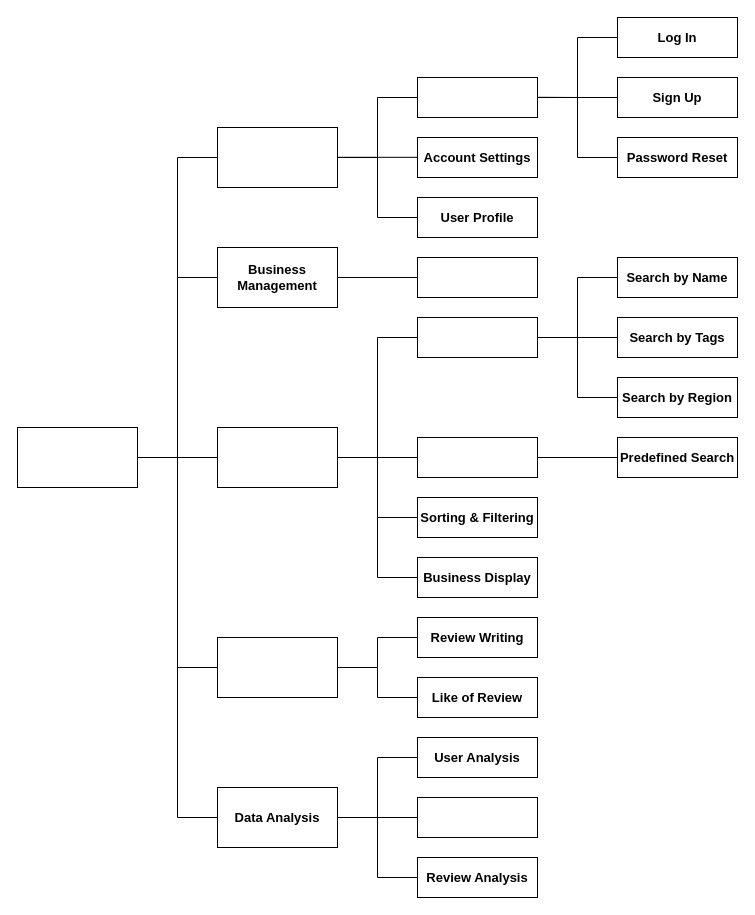
The diagram is 755 pixels wide and 915 high, and some of its shapes have lost their labels. The shapes that lost their labels are listed below. From the top down, each one's centre as x and y in pixels, then its label:
point (477, 97): User Registration
point (277, 157): User Account Management
point (477, 277): Business Settings
point (477, 337): Keyword Search
point (77, 457): Glocal
point (277, 457): Business Search
point (477, 457): Quick Search
point (277, 667): Review
point (477, 817): Business Analysis
